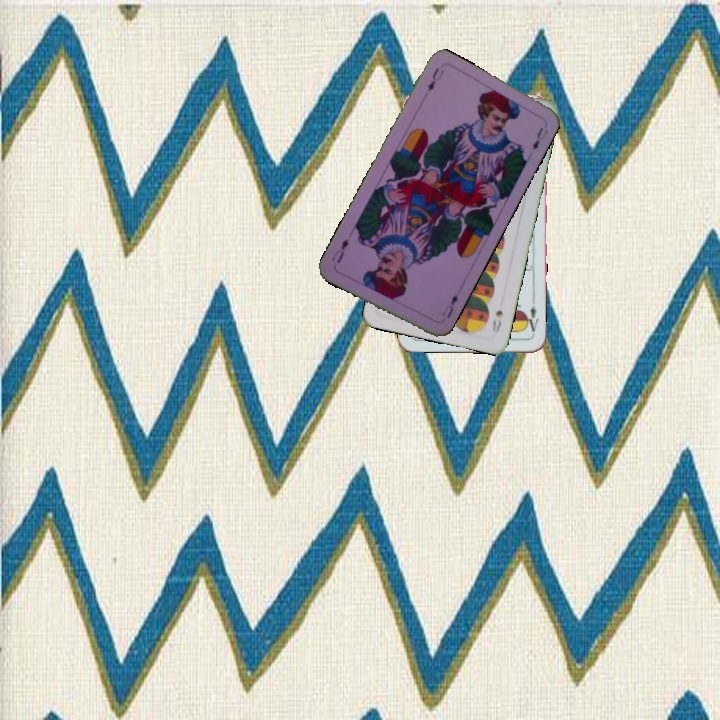EA: (521, 297, 541, 338)
EU: (438, 290, 461, 320), (423, 64, 446, 94)
S8: (488, 306, 505, 335)
